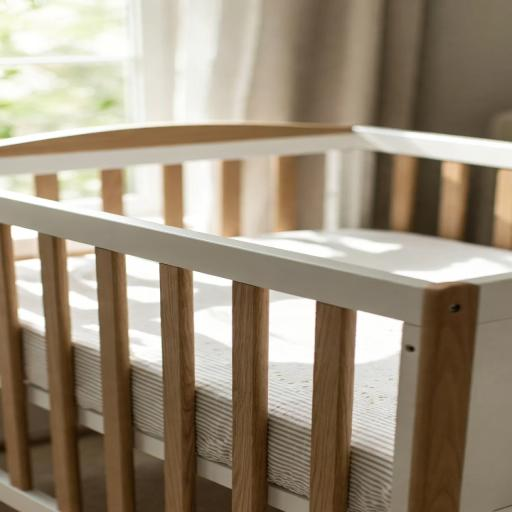crib: (0, 124, 511, 511)
